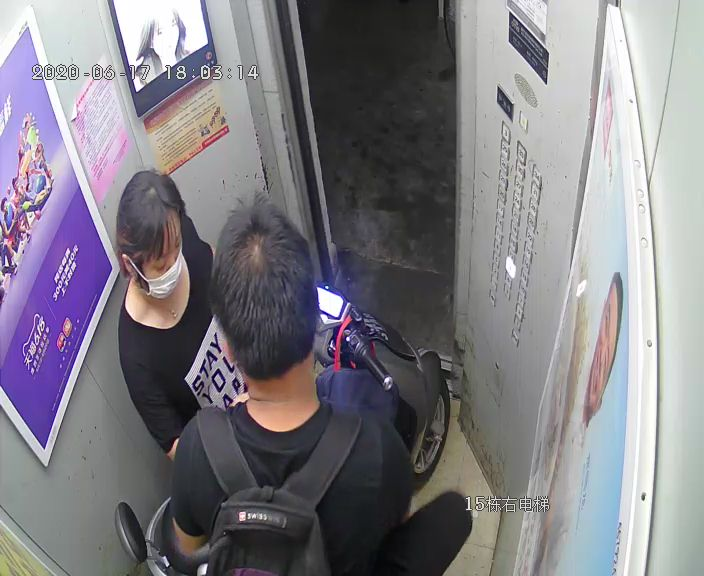Electric-bicycle: (118, 283, 450, 569)
